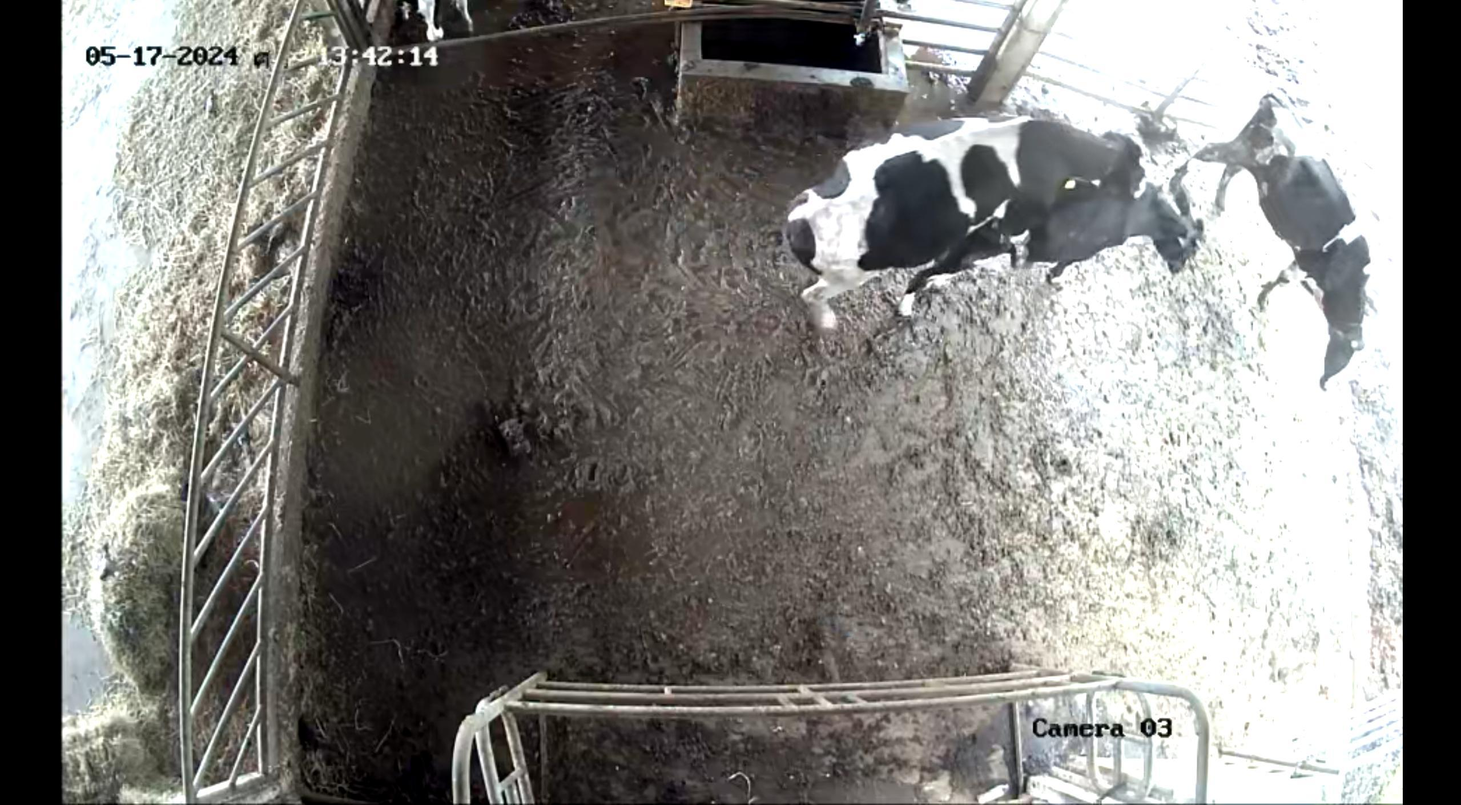ride: (776, 107, 1136, 349)
stand: (1184, 96, 1378, 407), (981, 159, 1218, 313)
